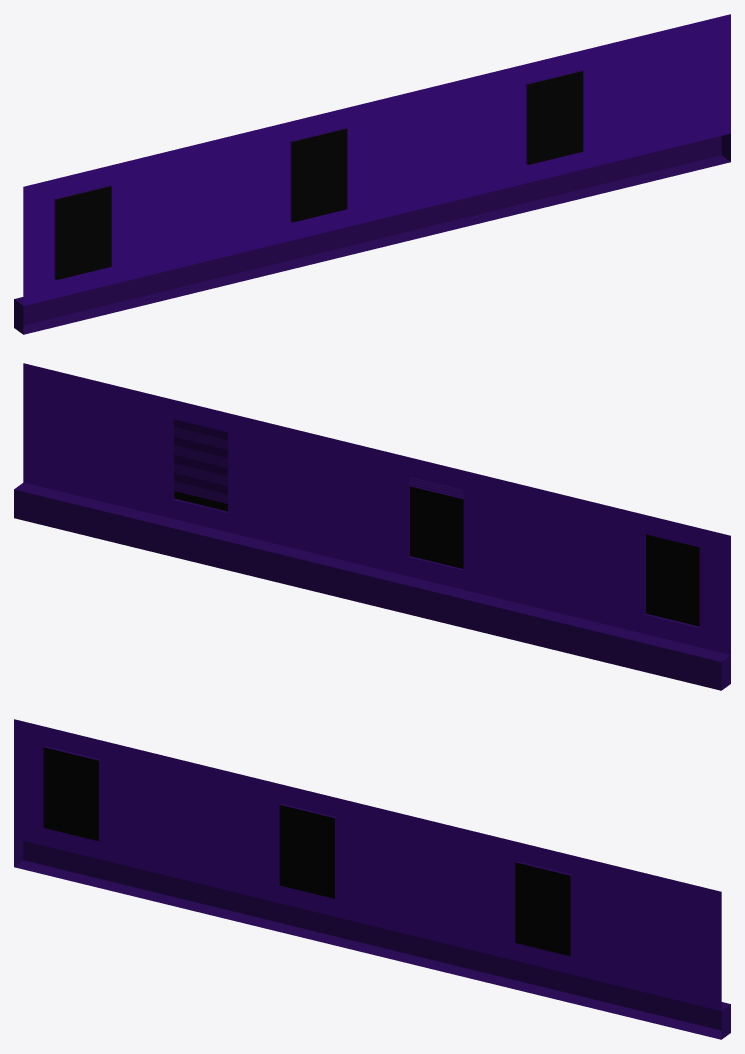
File: RunnablePart2.fbx
The picture shows the model from 3 angles, top to bottom: view 1: azimuth 30°, elevation 25°; view 2: azimuth 150°, elevation 25°; view 3: azimuth 330°, elevation 25°; orthographic projection.
Parts seen in each view (by area): view 1: Plane.001; view 2: Plane.001; view 3: Plane.001.
Part boxes in pixels (x1,y1,x2,y2): Plane.001: [14, 14, 730, 334]; Plane.001: [14, 363, 730, 690]; Plane.001: [14, 719, 730, 1039].
Size of the model in its own units: 10000 by 2000 by 270.
